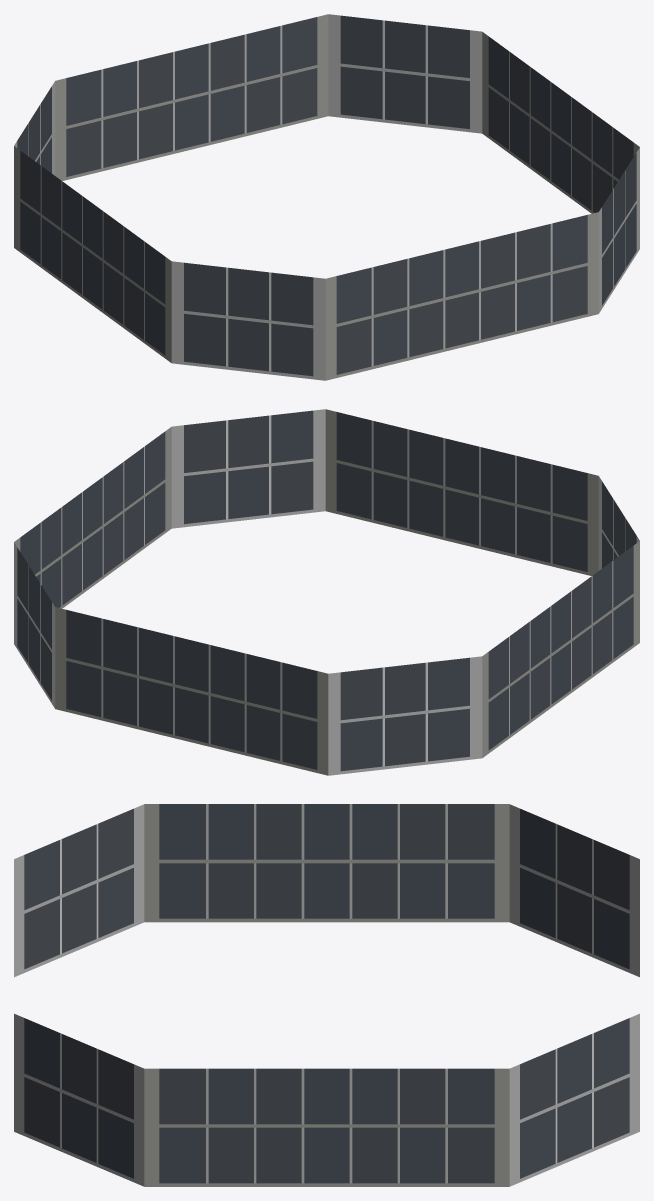
Rendered from TB_CITY_Skysc_R_UpperBodyA_Gray.FBX.
3 views of the same model, one above another, from view 1: azimuth 30°, elevation 25°; view 2: azimuth 150°, elevation 25°; view 3: azimuth 270°, elevation 25° (orthographic). The views are drawn at different scales.
Visible parts, largest first — view 1: TB_CITY_Skysc_R_UpperBodyA_Gray; view 2: TB_CITY_Skysc_R_UpperBodyA_Gray; view 3: TB_CITY_Skysc_R_UpperBodyA_Gray.
Boxes of the visible parts, x1,y1,x2,y2 form: TB_CITY_Skysc_R_UpperBodyA_Gray: (14, 14, 639, 380); TB_CITY_Skysc_R_UpperBodyA_Gray: (14, 409, 639, 775); TB_CITY_Skysc_R_UpperBodyA_Gray: (14, 804, 639, 1186).
Size of the model in its own units: 13.3 by 2.77 by 13.3.
